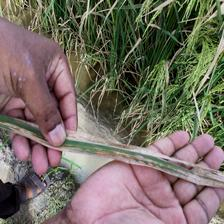2 BacterialBlight: (14, 116, 224, 189)
